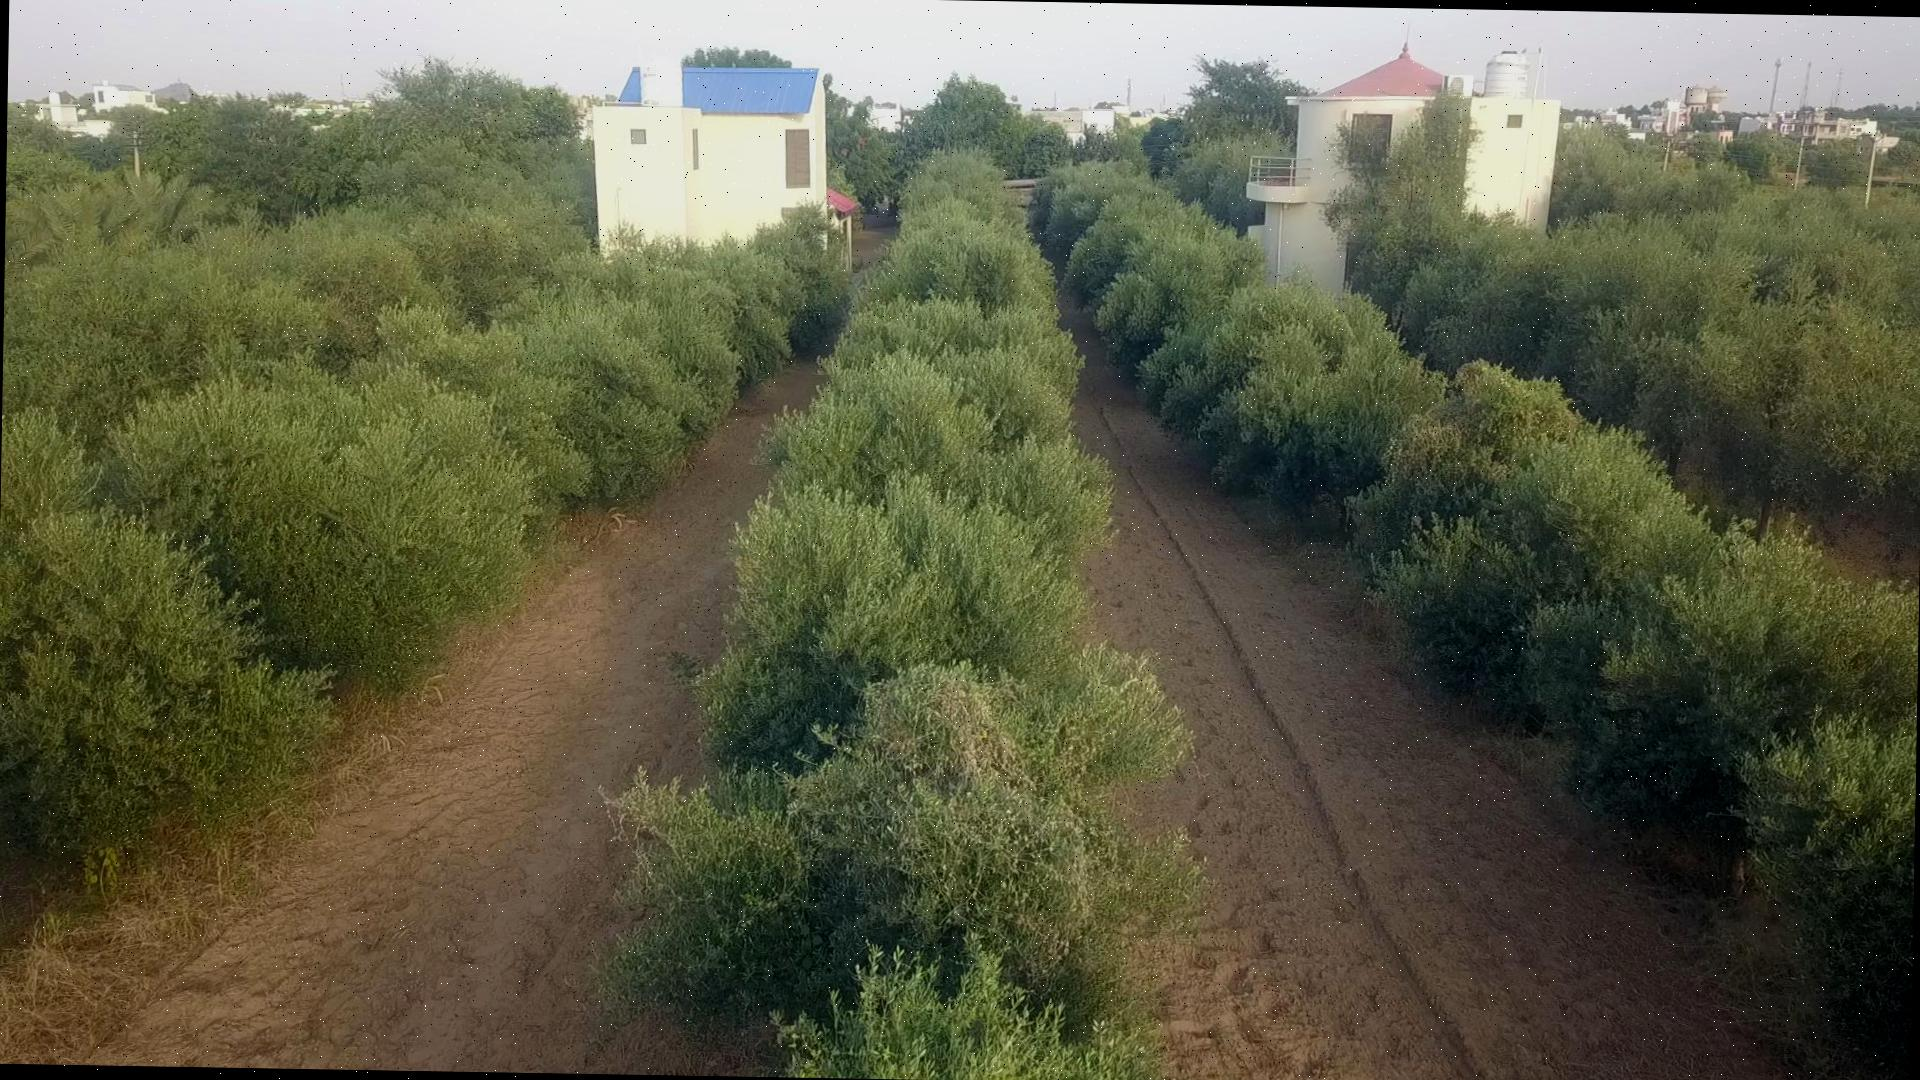canopy: (1042, 164, 1919, 1065), (608, 154, 1199, 1080), (0, 241, 798, 864), (369, 1013, 386, 1029)
road: (1060, 295, 1792, 1080), (92, 365, 818, 1071)
